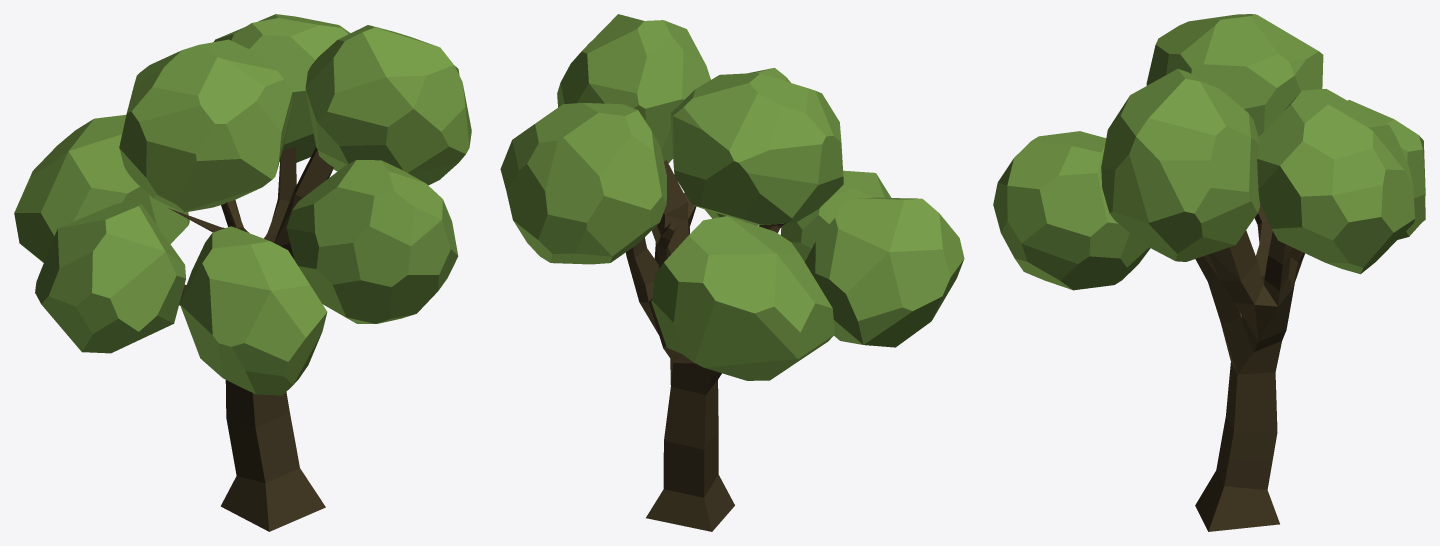
The model's file is Tree.fbx.
The picture shows the model from 3 angles, left to right: view 1: azimuth 30°, elevation 25°; view 2: azimuth 150°, elevation 25°; view 3: azimuth 270°, elevation 25°; orthographic projection. The views are drawn at different scales.
Visible parts, largest first — view 1: Bark; view 2: Bark; view 3: Bark.
Part boxes in pixels (x1,y1,x2,y2): Bark: (14,14,471,531); Bark: (500,14,964,531); Bark: (993,14,1425,531).
Bounding box in the file's own units: 180 × 203 × 167.
